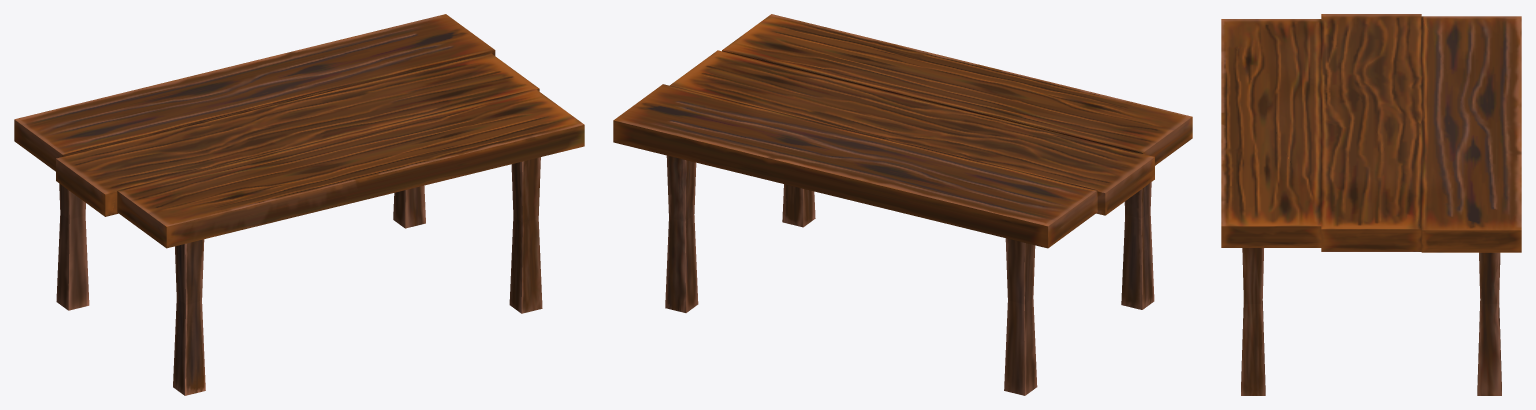
File: WoodenTable.fbx
3 views of the same model, side by side, from view 1: azimuth 30°, elevation 25°; view 2: azimuth 150°, elevation 25°; view 3: azimuth 270°, elevation 25° (orthographic).
Visible parts, largest first — view 1: Wooden Table.001; view 2: Wooden Table.001; view 3: Wooden Table.001.
Part boxes in pixels (left/top/right/bottom): Wooden Table.001: left=14, top=14, right=584, bottom=395; Wooden Table.001: left=613, top=14, right=1192, bottom=395; Wooden Table.001: left=1221, top=14, right=1521, bottom=395.
Bounding box in the file's own units: 253 × 101 × 147.
